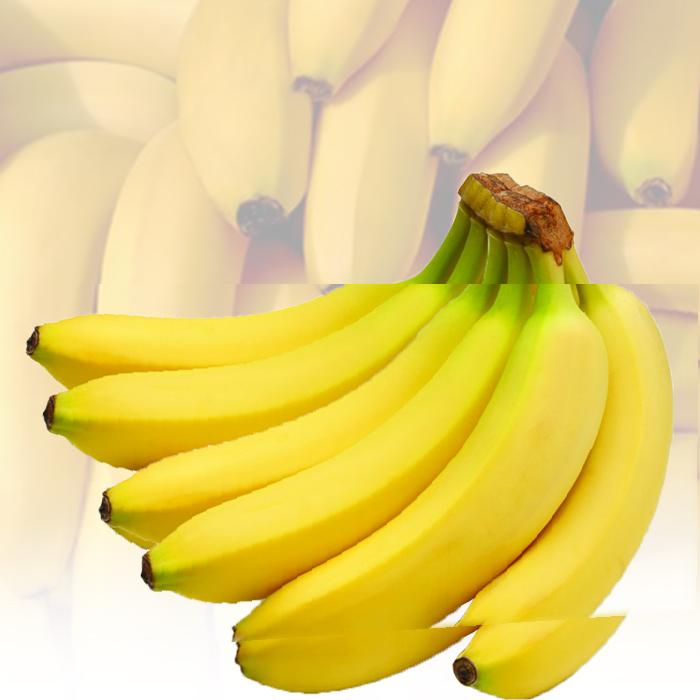Banana Fresh: (22, 285, 700, 657)
